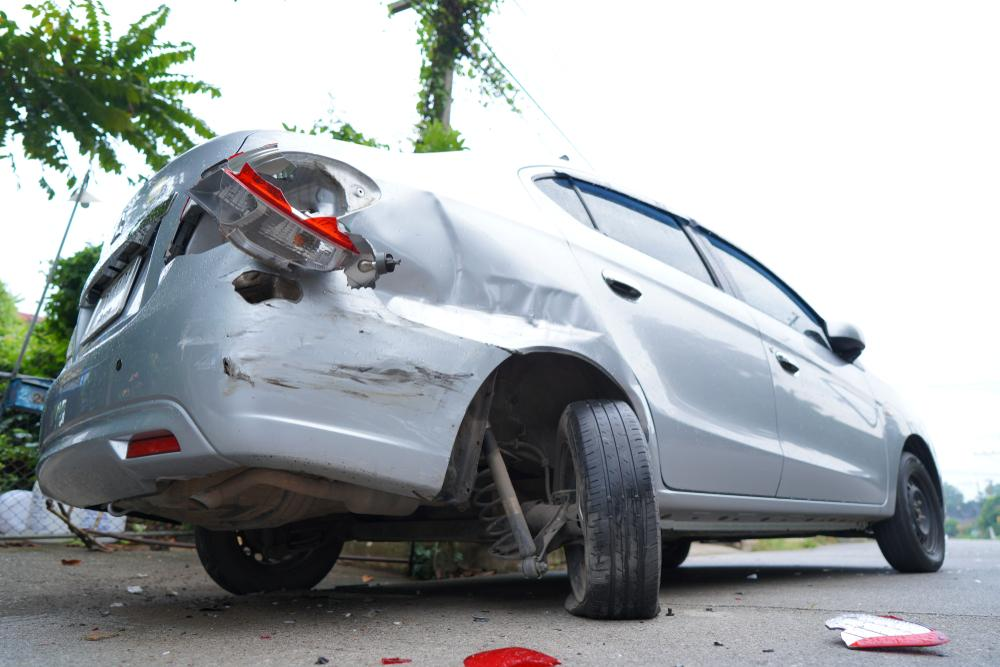dent: (363, 180, 604, 350)
lamp broken: (173, 156, 359, 274)
scratch: (218, 304, 486, 401)
tire flat: (549, 396, 662, 622)
